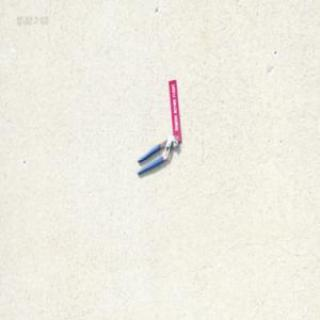LuggageTagtrack_idkeyframe: (167, 78, 181, 142)
Pliertrack_idkeyframe: (135, 133, 178, 175)
